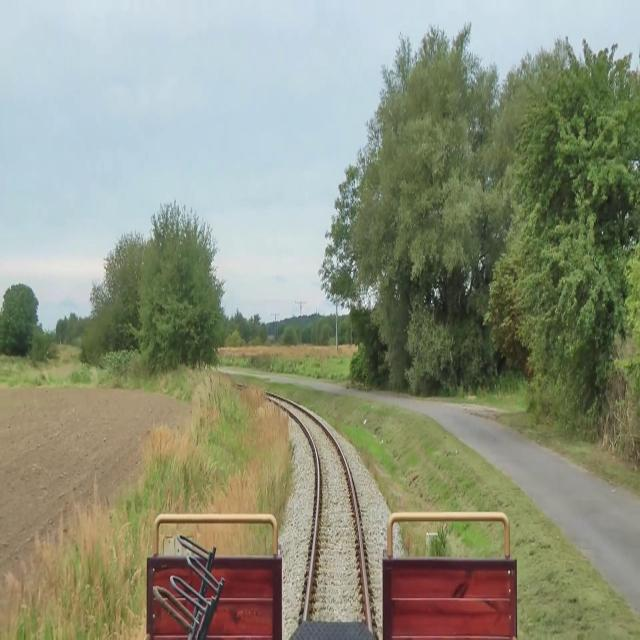rail-track: (288, 404, 366, 620)
